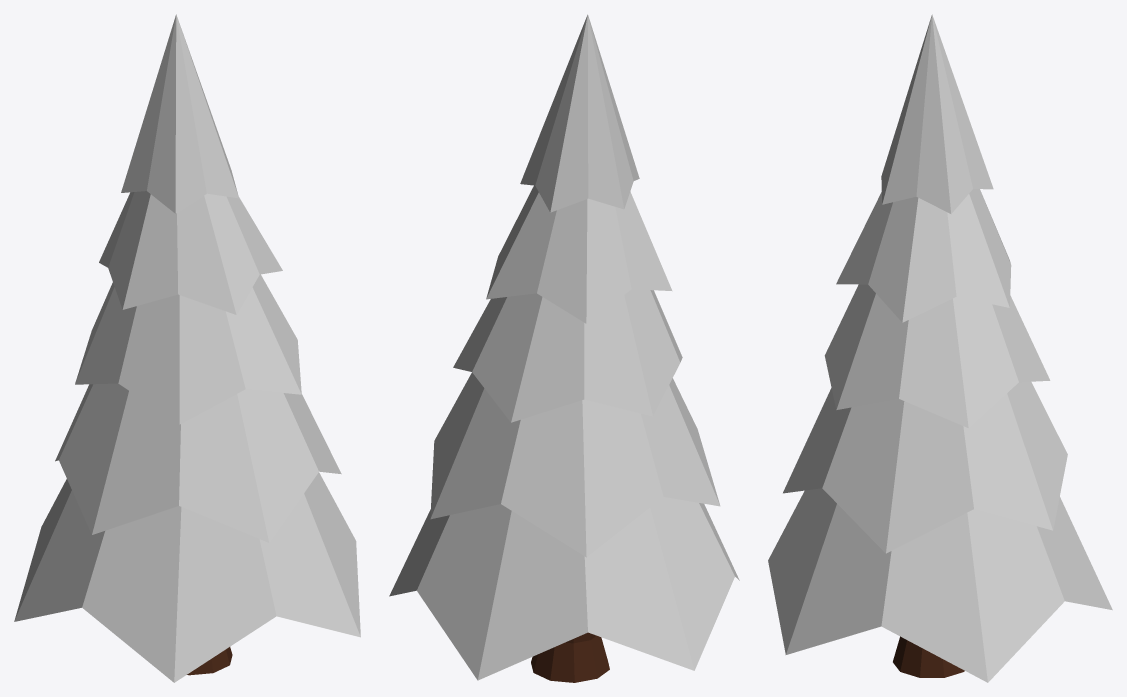
The model's file is tree.glb.
The picture shows the model from 3 angles, left to right: view 1: azimuth 30°, elevation 25°; view 2: azimuth 150°, elevation 25°; view 3: azimuth 270°, elevation 25°; orthographic projection. The views are drawn at different scales.
Parts seen in each view (by area): view 1: Cylinder.002; view 2: Cylinder.002; view 3: Cylinder.002.
Boxes of the visible parts, left/top/right/bottom form: Cylinder.002: left=14, top=14, right=360, bottom=682; Cylinder.002: left=389, top=14, right=739, bottom=682; Cylinder.002: left=768, top=14, right=1112, bottom=682.
Bounding box in the file's own units: 0.605 × 1.24 × 0.6067.
